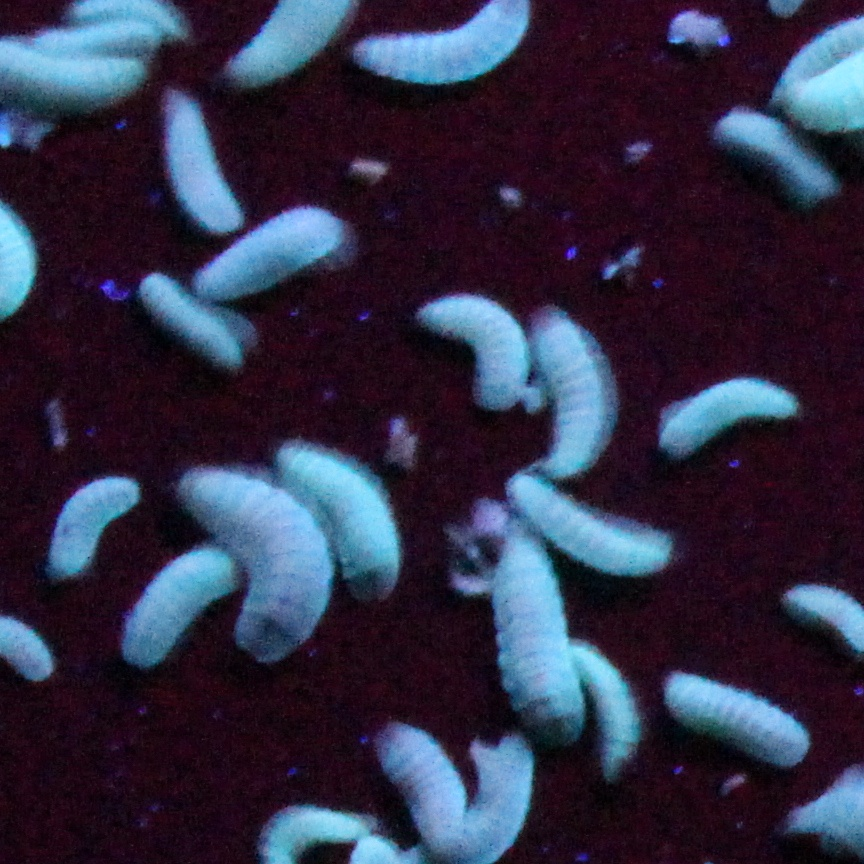larve: (173, 476, 342, 650), (487, 527, 602, 733), (518, 312, 626, 488), (513, 478, 688, 581), (354, 4, 530, 100), (287, 444, 393, 581), (662, 664, 807, 764), (194, 216, 358, 296), (150, 100, 250, 228), (418, 300, 526, 412), (116, 556, 236, 650), (39, 467, 142, 576), (370, 721, 459, 844), (670, 388, 822, 460), (456, 730, 533, 864), (146, 276, 246, 368), (576, 635, 635, 784), (722, 120, 838, 188), (34, 24, 138, 60)
